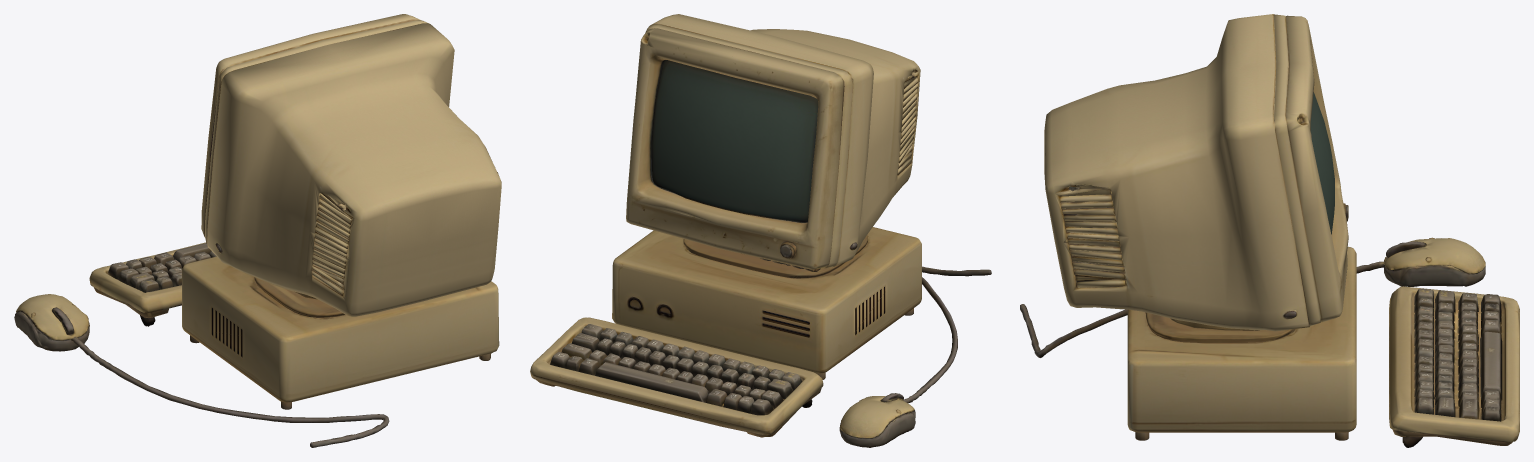
File: prop-crt-computer-v01.glb
3 renders of one model, left to right at view 1: azimuth 30°, elevation 25°; view 2: azimuth 150°, elevation 25°; view 3: azimuth 270°, elevation 25°, orthographic. The views are drawn at different scales.
Visible parts, largest first — view 1: tripo_node_d5a8933a-fc5b-44ec-b9cd-59b9ec1d3ac7; view 2: tripo_node_d5a8933a-fc5b-44ec-b9cd-59b9ec1d3ac7; view 3: tripo_node_d5a8933a-fc5b-44ec-b9cd-59b9ec1d3ac7.
Boxes of the visible parts, left/top/right/bottom form: tripo_node_d5a8933a-fc5b-44ec-b9cd-59b9ec1d3ac7: left=14, top=14, right=501, bottom=447; tripo_node_d5a8933a-fc5b-44ec-b9cd-59b9ec1d3ac7: left=530, top=14, right=991, bottom=447; tripo_node_d5a8933a-fc5b-44ec-b9cd-59b9ec1d3ac7: left=1020, top=14, right=1519, bottom=447.
Bounding box in the file's own units: 0.6111 × 0.5 × 0.6924.
Materials: 1 (1 with a texture image).
